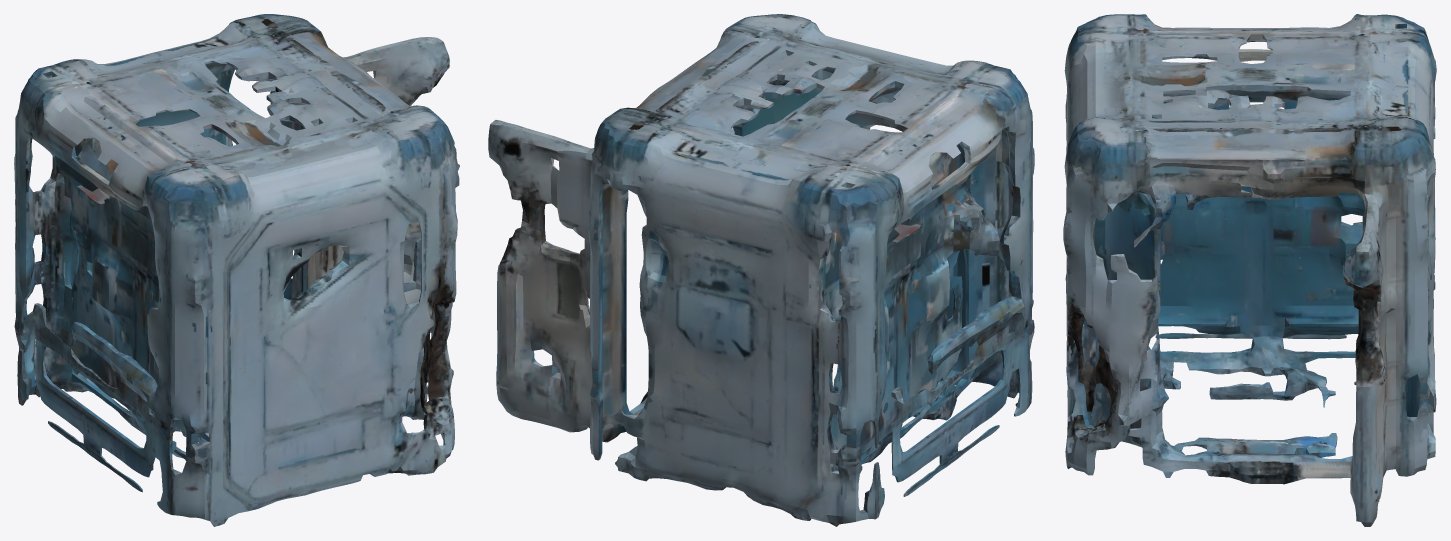
File: CargoC_Authored.glb
The picture shows the model from 3 angles, left to right: view 1: azimuth 30°, elevation 25°; view 2: azimuth 150°, elevation 25°; view 3: azimuth 270°, elevation 25°; orthographic projection.
Visible parts, largest first — view 1: CargoUnit_Wrecked; view 2: CargoUnit_Wrecked; view 3: CargoUnit_Wrecked.
Boxes of the visible parts, x1,y1,x2,y2 form: CargoUnit_Wrecked: (14,14,459,526); CargoUnit_Wrecked: (488,14,1034,526); CargoUnit_Wrecked: (1063,14,1436,526).
Bounding box in the file's own units: 0.7803 × 0.609 × 0.6048.
Materials: 1 (1 with a texture image).
